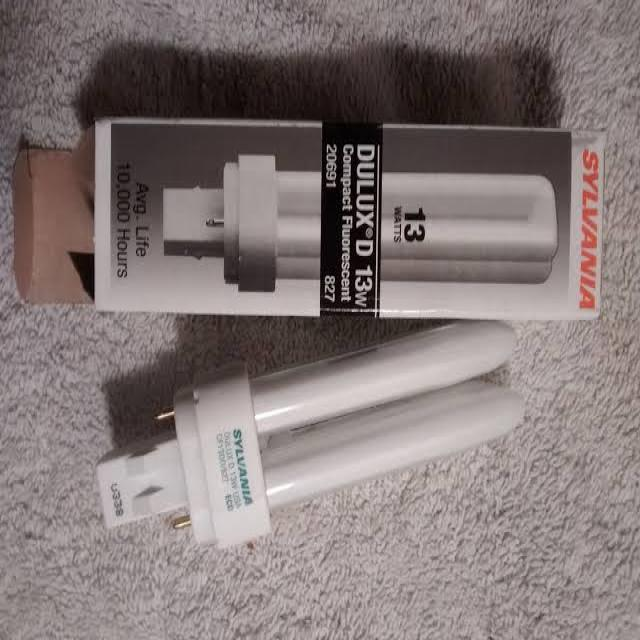bulb: (75, 339, 540, 553)
